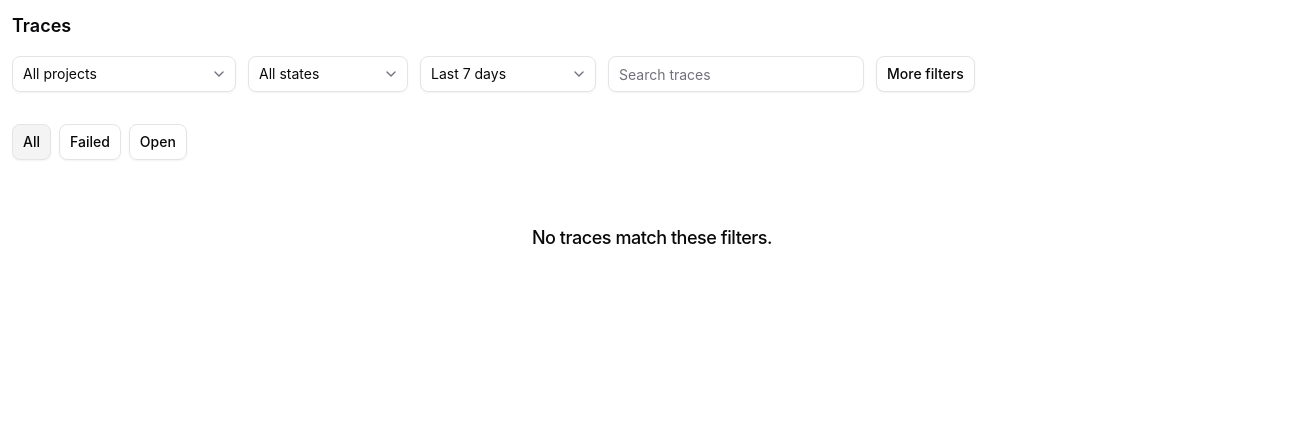
Test: TracesScreen › sorts through the query string
Step 1. Click the button "More filters" → click(925, 74), box x1=876 y1=56 x2=975 y2=92
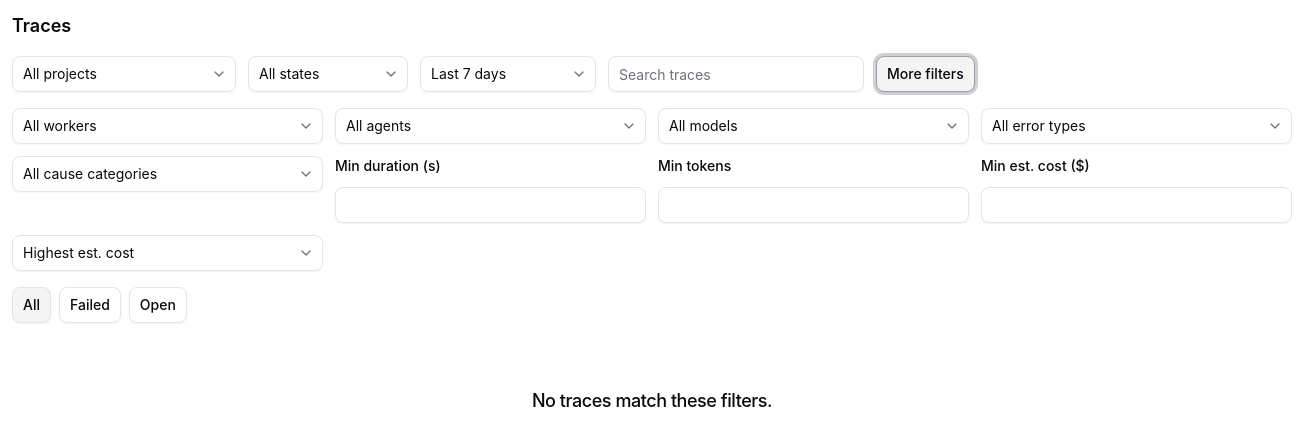
Expected: the dropdown named "Sort" shows "Highest est. cost", x1=12 y1=235 x2=323 y2=271
